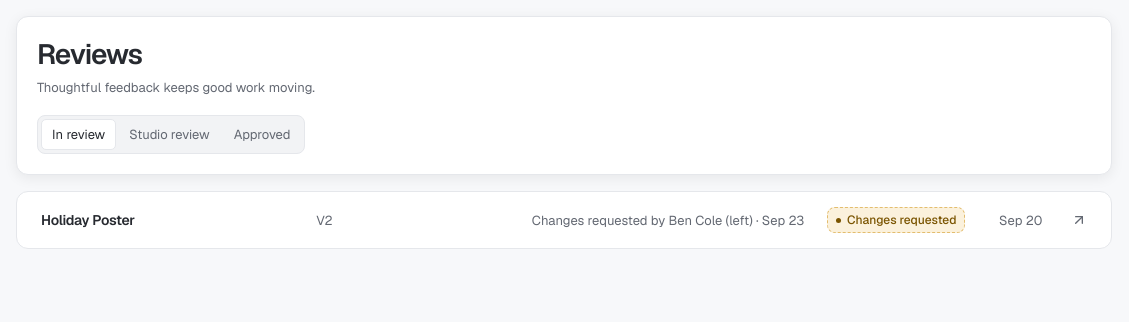
Scenario: ReviewsPage decisions › names who decided and when, and keeps the release note in the tooltip
This screenshot has width=1129, height=322.
Expected: the text "Changes requested by Ben Cole (left) · Sep 23" is shown, [532,210,811,230]
Click the button "Approved" at (262, 135), box [223,119,301,150]
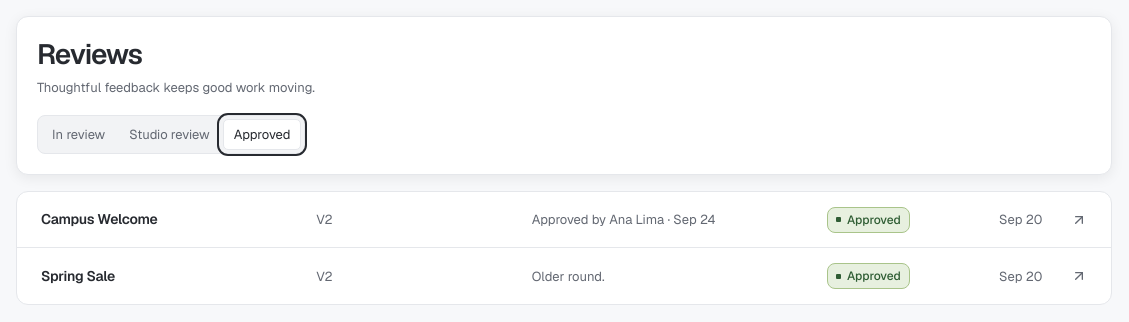
Result: the text "Older round." is shown at [532,268,605,284]
